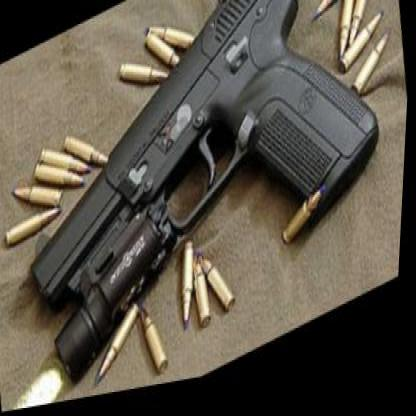pistol: (0, 0, 391, 371)
